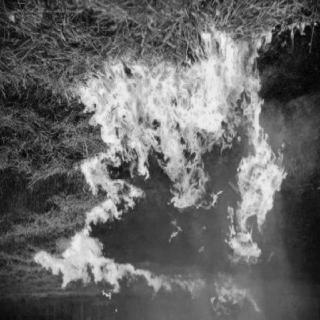Fire: (30, 19, 318, 317)
